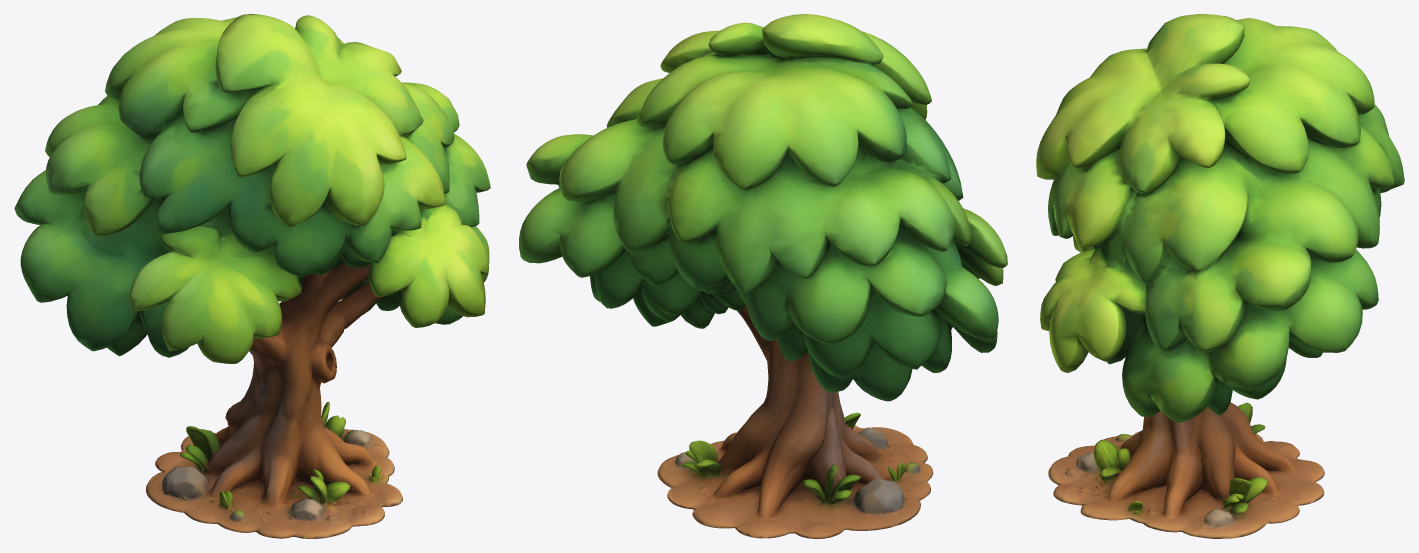
File: tree_planter.glb
3 views of the same model, side by side, from view 1: azimuth 30°, elevation 25°; view 2: azimuth 150°, elevation 25°; view 3: azimuth 270°, elevation 25° (orthographic). The views are drawn at different scales.
Visible parts, largest first — view 1: tripo_part_0, tripo_part_2, tripo_part_1; view 2: tripo_part_0, tripo_part_1, tripo_part_2; view 3: tripo_part_0, tripo_part_1, tripo_part_2.
Boxes of the visible parts, left/top/right/bottom form: tripo_part_0: left=14, top=14, right=490, bottom=363; tripo_part_2: left=206, top=262, right=383, bottom=508; tripo_part_1: left=145, top=402, right=402, bottom=538; tripo_part_0: left=519, top=14, right=1007, bottom=401; tripo_part_1: left=657, top=412, right=933, bottom=538; tripo_part_2: left=711, top=304, right=884, bottom=520; tripo_part_0: left=1036, top=14, right=1404, bottom=422; tripo_part_1: left=1048, top=402, right=1324, bottom=538; tripo_part_2: left=1104, top=402, right=1296, bottom=518.
Bounding box in the file's own units: 0.98 × 0.9648 × 0.705.
1 material, 1 textured.
